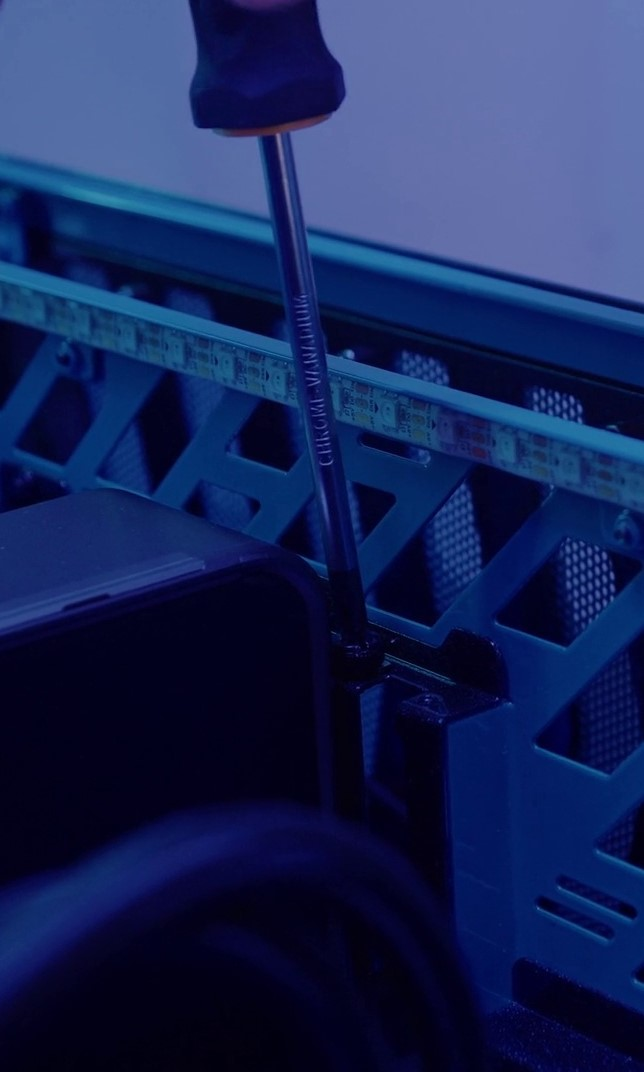screwdriver: (181, 2, 382, 655)
